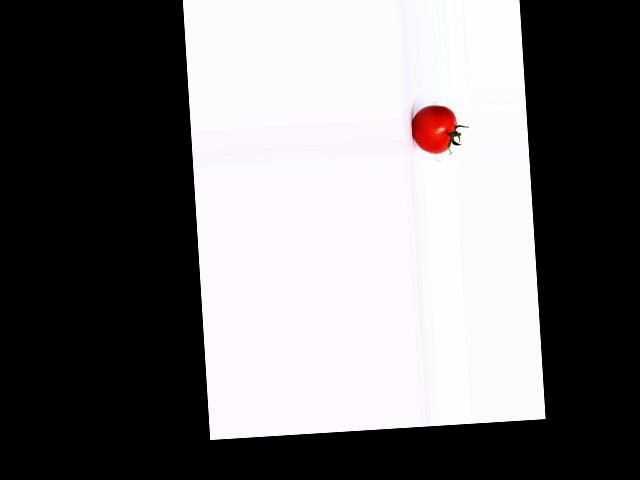tomato: (411, 103, 458, 154)
